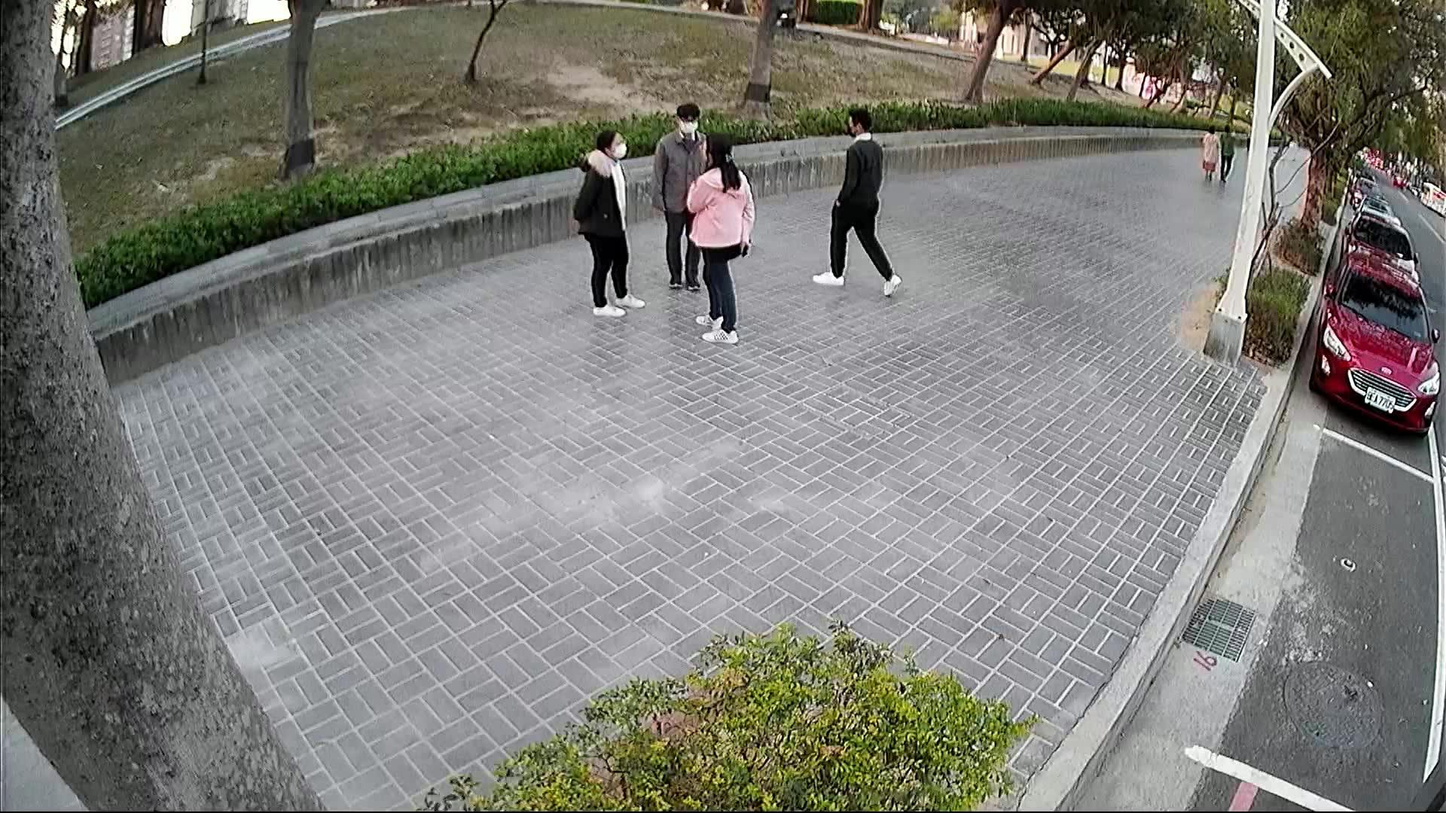person: (797, 102, 903, 306), (674, 126, 756, 346), (566, 124, 645, 318), (648, 97, 710, 294), (1211, 117, 1240, 185), (1197, 119, 1220, 180)
